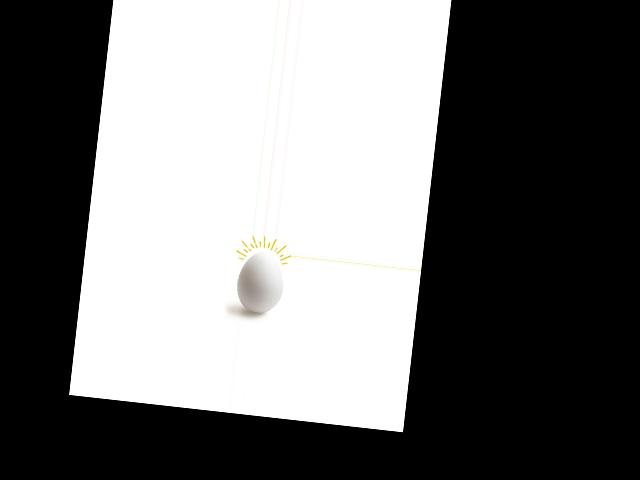egg: (234, 250, 287, 315)
